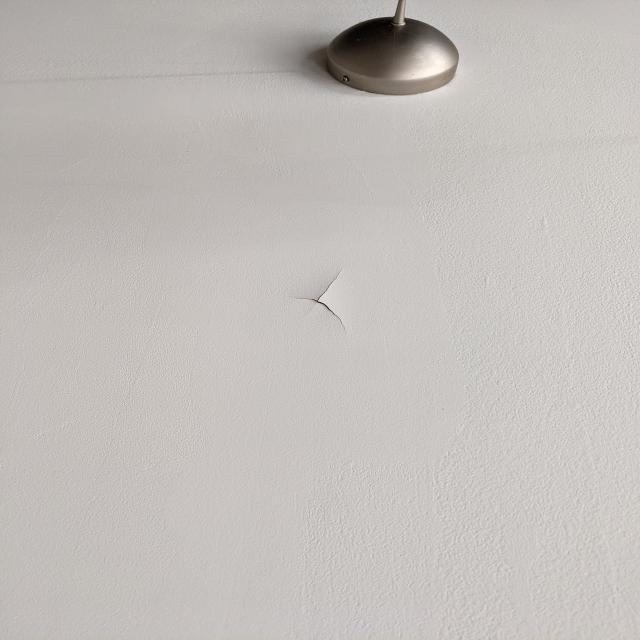Crack: (292, 266, 349, 336)
